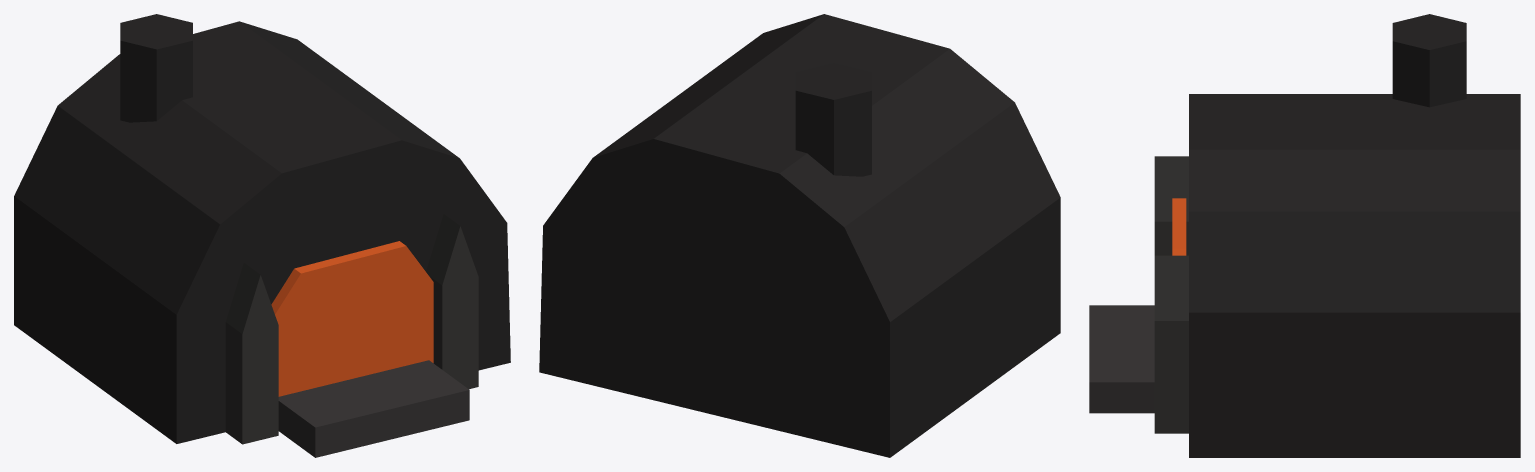
The model's file is furnace.glb.
3 renders of one model, left to right at view 1: azimuth 30°, elevation 25°; view 2: azimuth 150°, elevation 25°; view 3: azimuth 270°, elevation 25°, orthographic. The views are drawn at different scales.
Parts seen in each view (by area): view 1: furnace; view 2: furnace; view 3: furnace.
Part boxes in pixels (bbox=[...]): furnace: bbox=[14, 14, 510, 457]; furnace: bbox=[539, 14, 1060, 457]; furnace: bbox=[1089, 14, 1520, 457].
Size of the model in its own units: 1.84 by 1.59 by 2.01.
